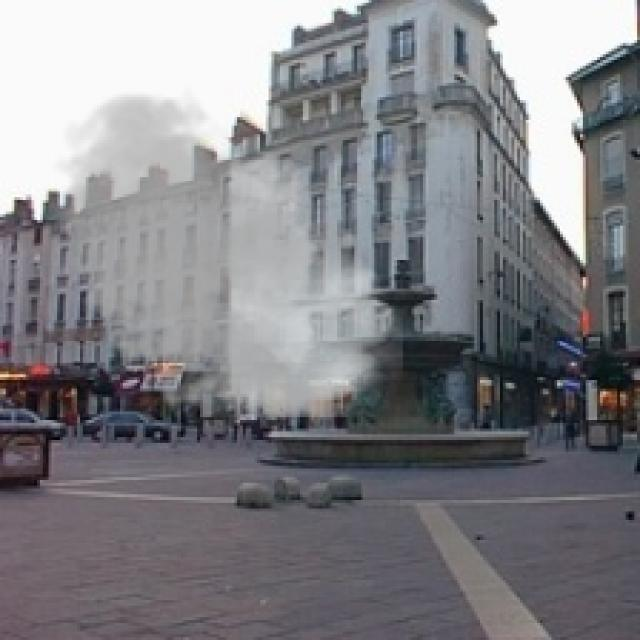Smoke: (37, 86, 403, 432)
